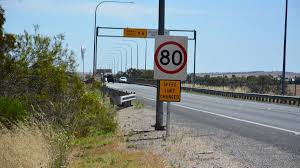Speed_limit_80km: (155, 41, 187, 74)
